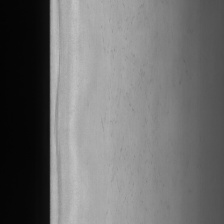silk_spot: (99, 40, 158, 210)
